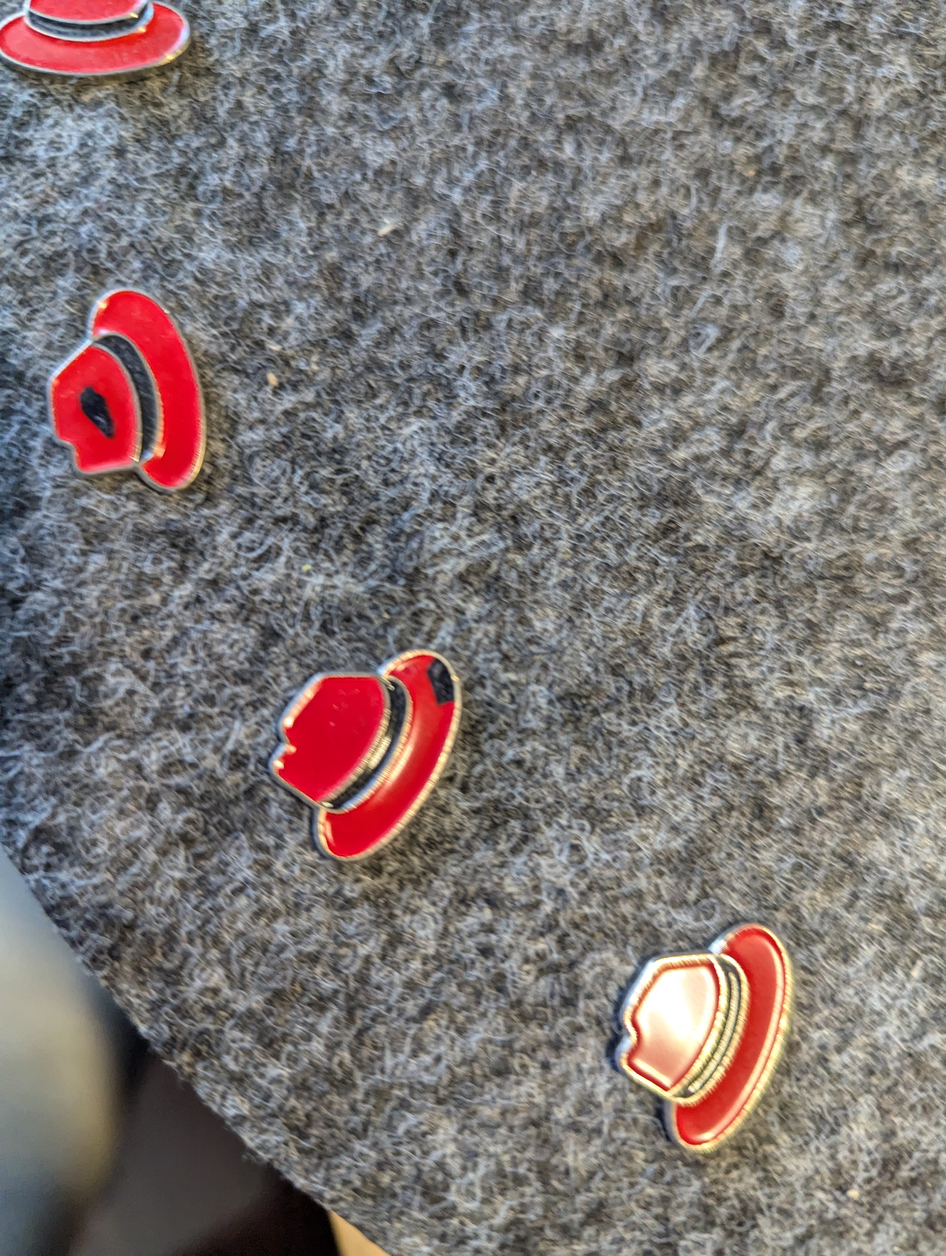Red-Hat: (257, 607, 485, 905), (590, 892, 805, 1176), (22, 262, 232, 541), (0, 0, 222, 82)
Scratch: (60, 377, 125, 459), (407, 651, 478, 720)
